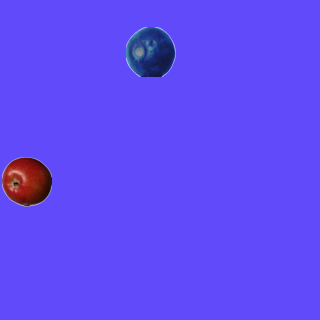Apple Braeburn: (1, 156, 51, 206)
Huckleberry: (125, 26, 175, 76)
